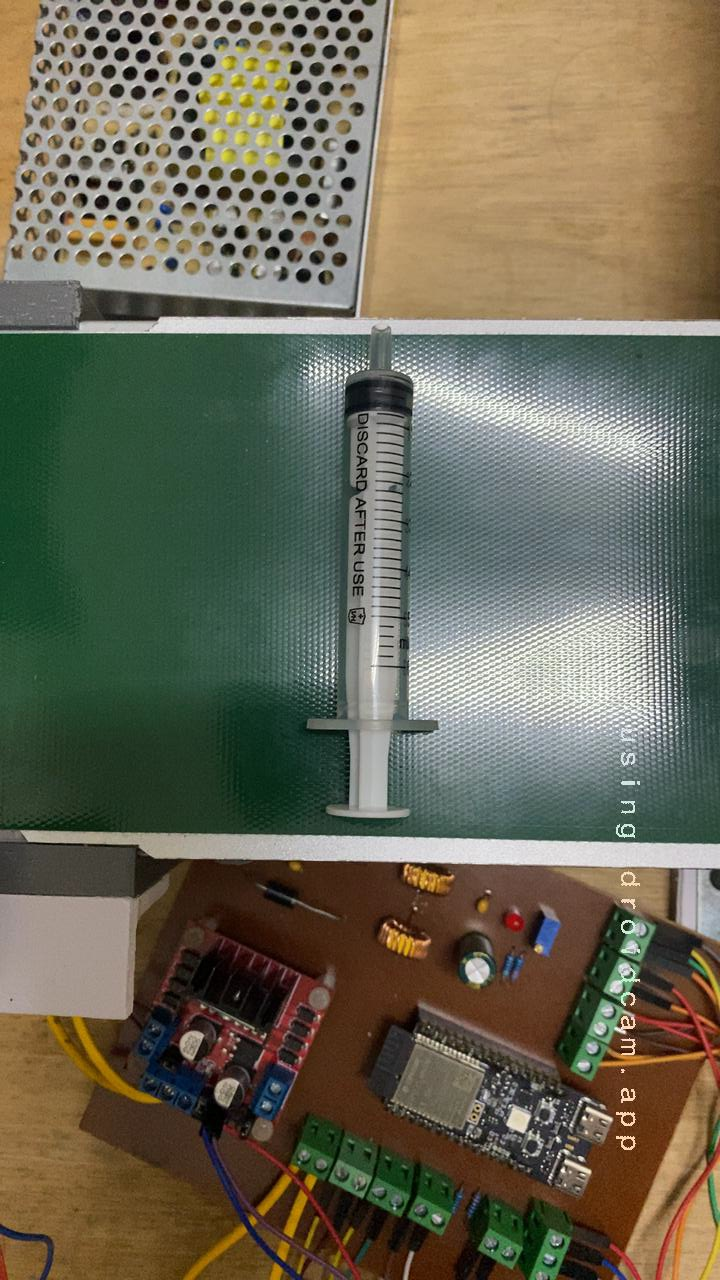syringe: (289, 472, 451, 838)
